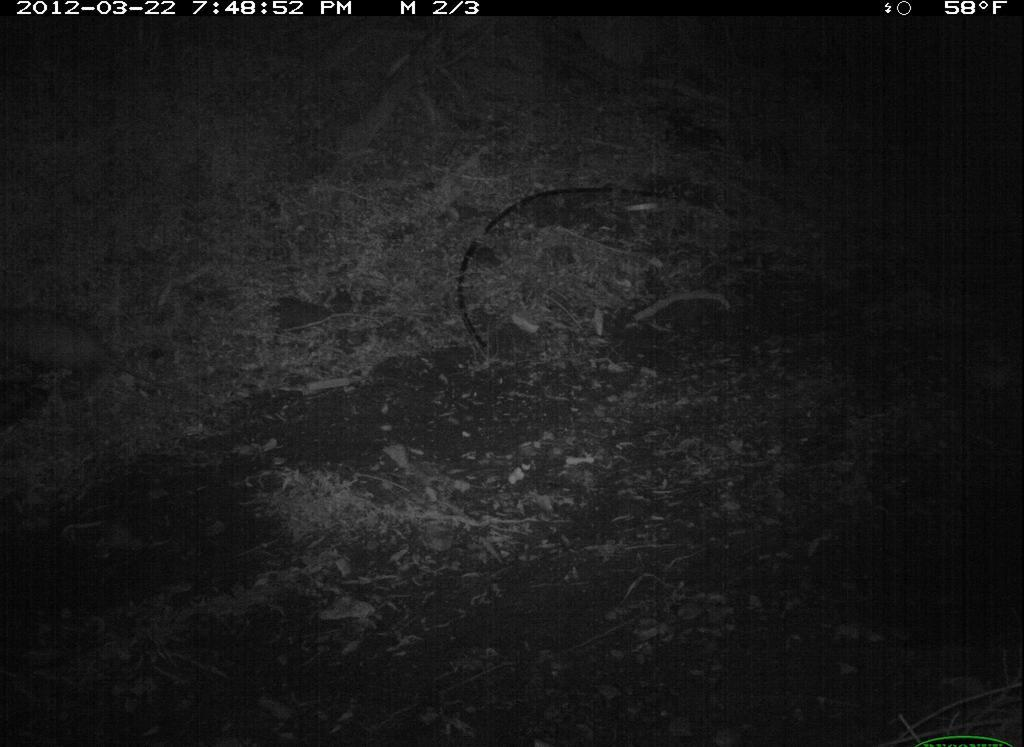opossum: (1, 295, 145, 411)
